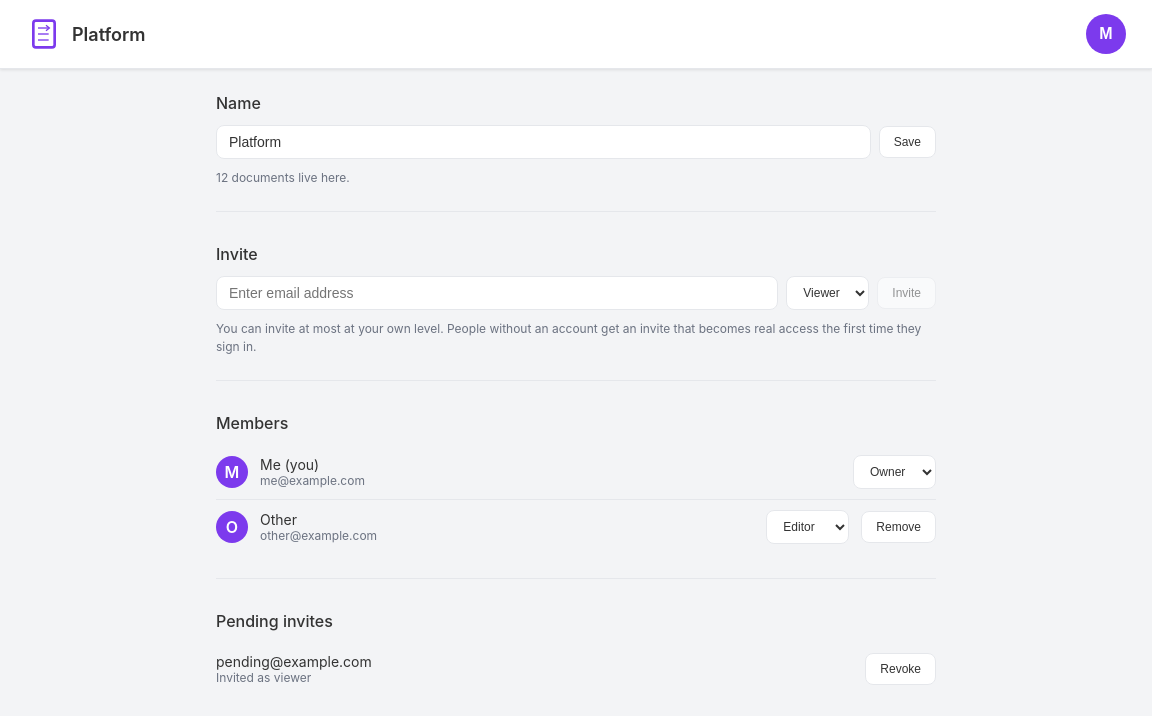
Test: SpaceSettingsPage › feature 059: local-mode invite note (FR-024) › team mode: the unchanged notice
In the field named "Invite by email": (497, 293) [216,276,778,310], type "new@example.com"
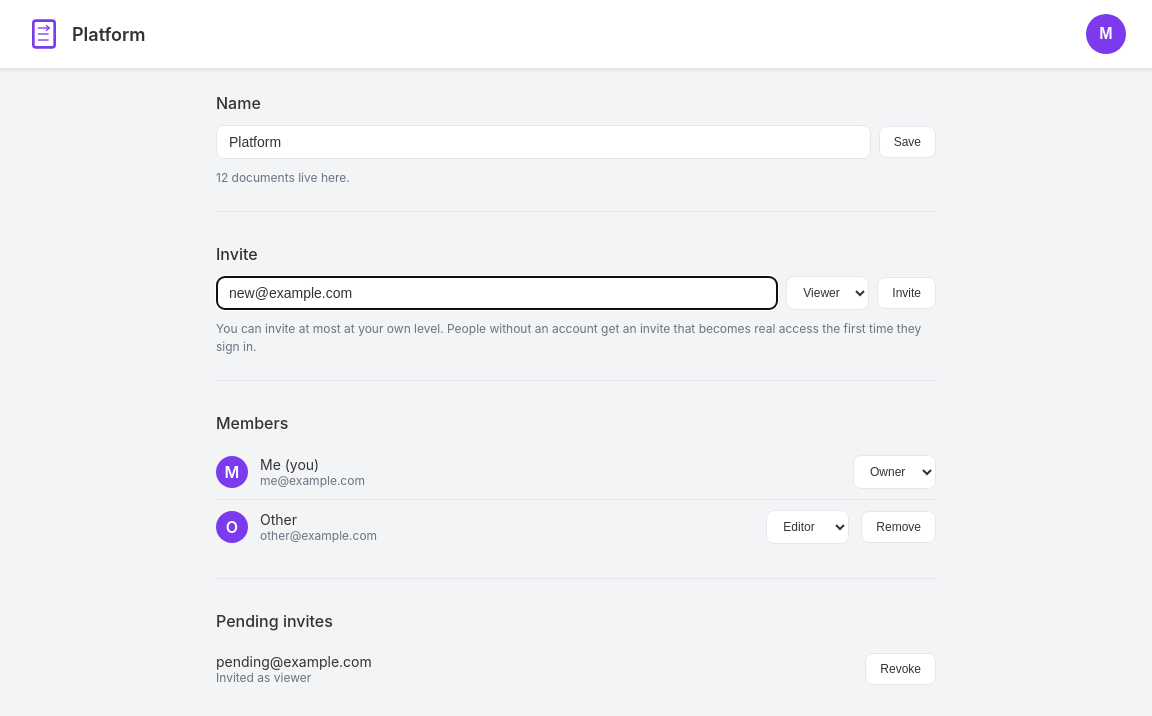
Click the button "Invite": (907, 293) [877,277,936,309]
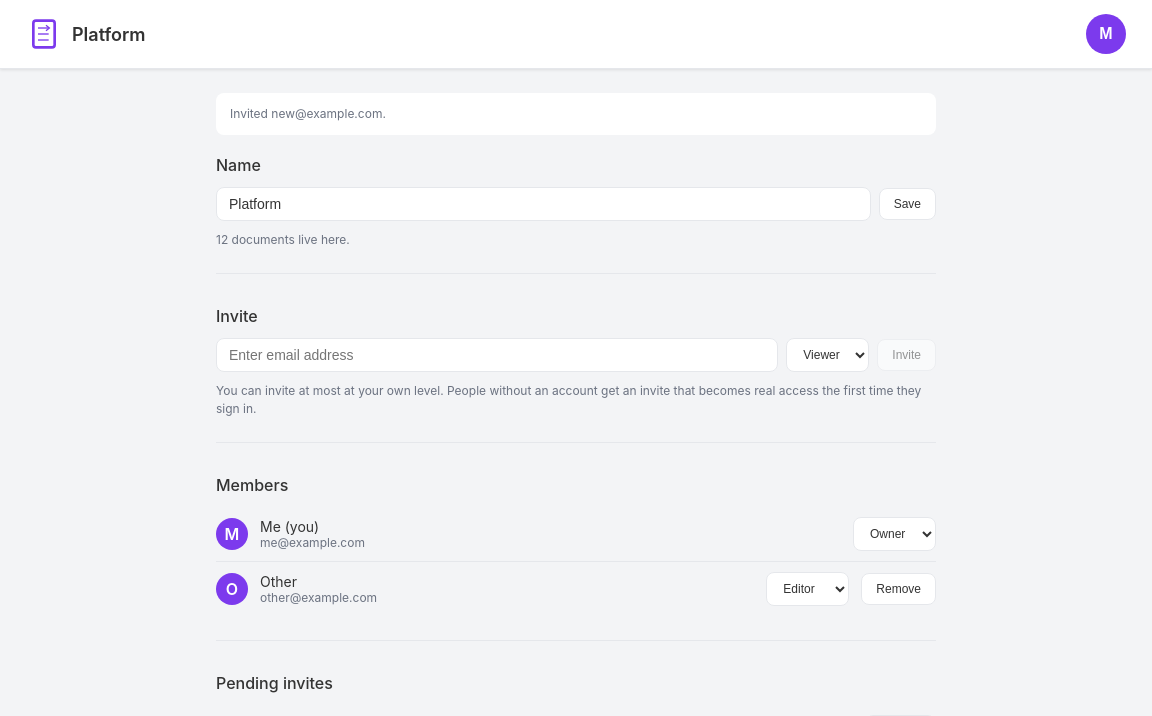
expect the text "Invited new@example.com." is shown: met, box [216,93,936,135]
